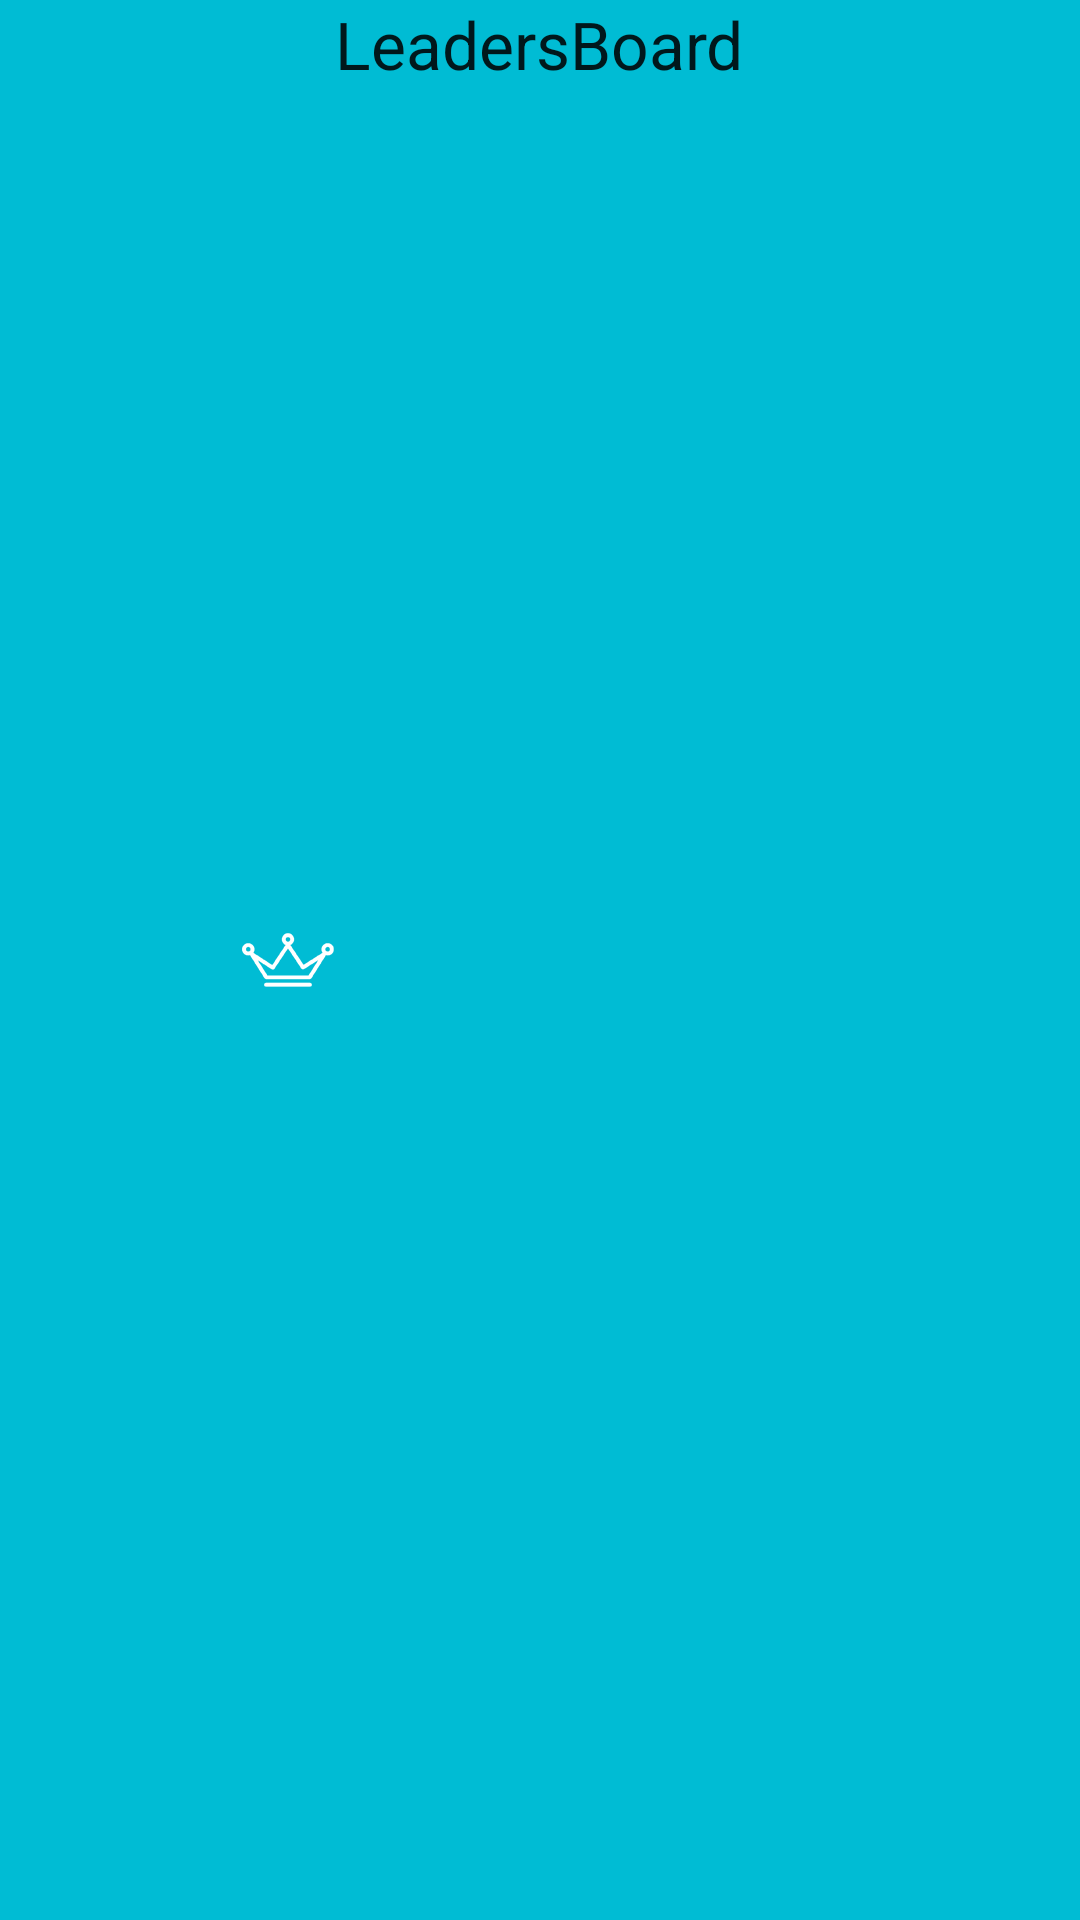

Screen size 1080 × 1920. Icon name, then its center in pixels as (x,y):
leaders board: (288,960)
